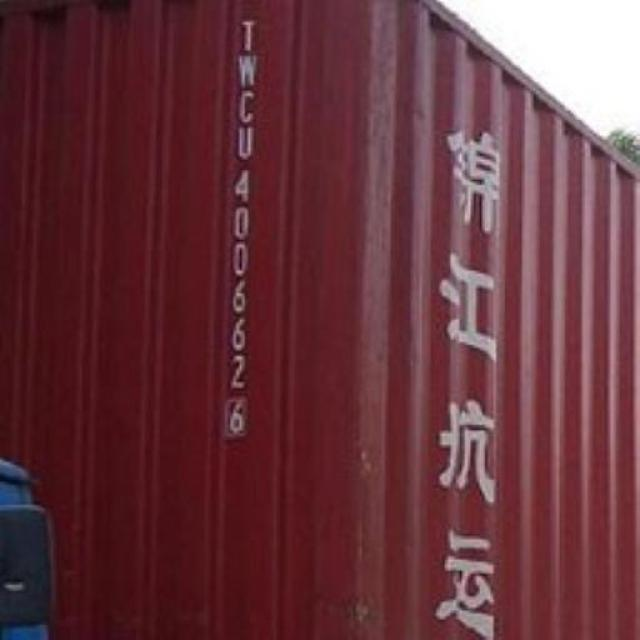container_number: (217, 10, 260, 441)
